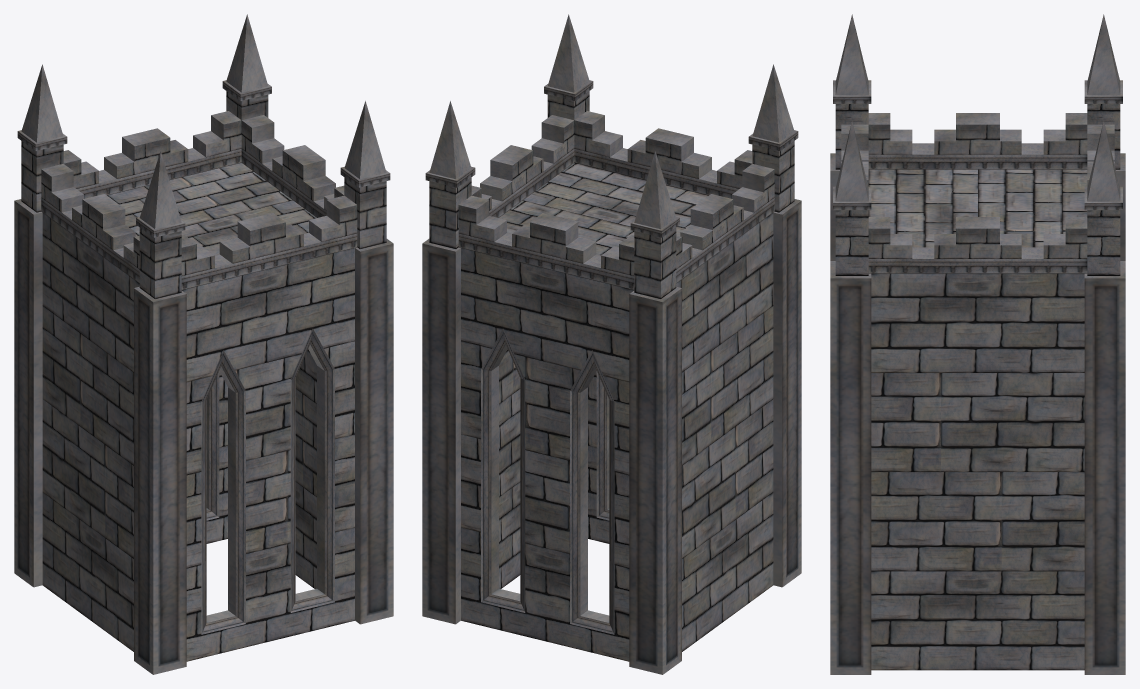
The model's file is tower_cap_01.fbx.
3 views of the same model, side by side, from view 1: azimuth 30°, elevation 25°; view 2: azimuth 150°, elevation 25°; view 3: azimuth 270°, elevation 25° (orthographic). The views are drawn at different scales.
Visible parts, largest first — view 1: tower_cap_01; view 2: tower_cap_01; view 3: tower_cap_01.
Boxes of the visible parts, x1,y1,x2,y2 form: tower_cap_01: [14, 14, 393, 674]; tower_cap_01: [422, 14, 801, 674]; tower_cap_01: [830, 14, 1125, 674].
Bounding box in the file's own units: 1080 × 2200 × 1080.
